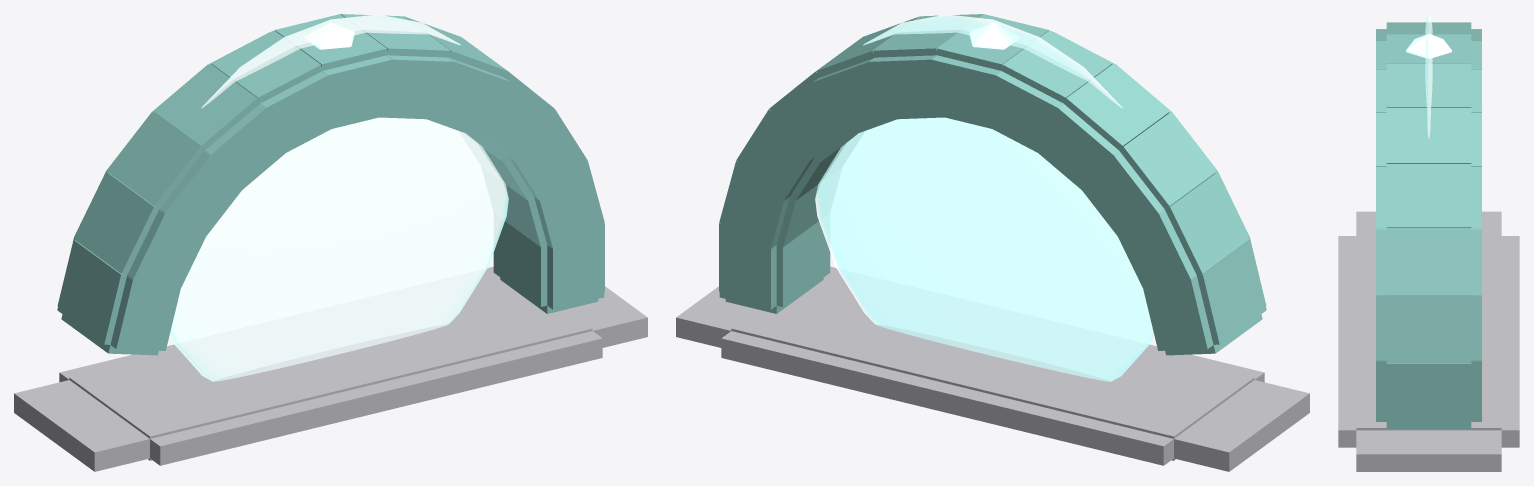
Rendered from build_portal_deepsea.glb.
3 renders of one model, left to right at view 1: azimuth 30°, elevation 25°; view 2: azimuth 150°, elevation 25°; view 3: azimuth 270°, elevation 25°, orthographic. The views are drawn at different scales.
Visible parts, largest first — view 1: box; view 2: box; view 3: box.
Part boxes in pixels (x1=…): box: x1=14, y1=14, x2=647, y2=471; box: x1=676, y1=14, x2=1309, y2=471; box: x1=1338, y1=14, x2=1519, y2=471.
Bounding box in the file's own units: 3.8 × 2.5 × 1.2.
